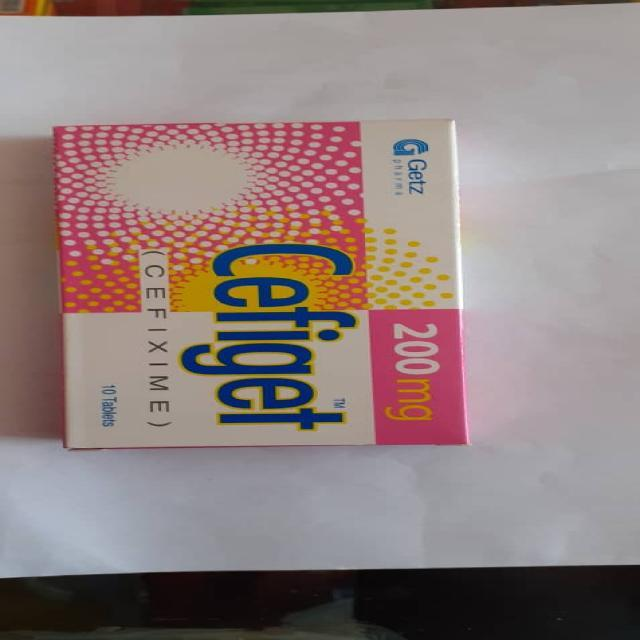drug-name: (178, 237, 354, 432)
